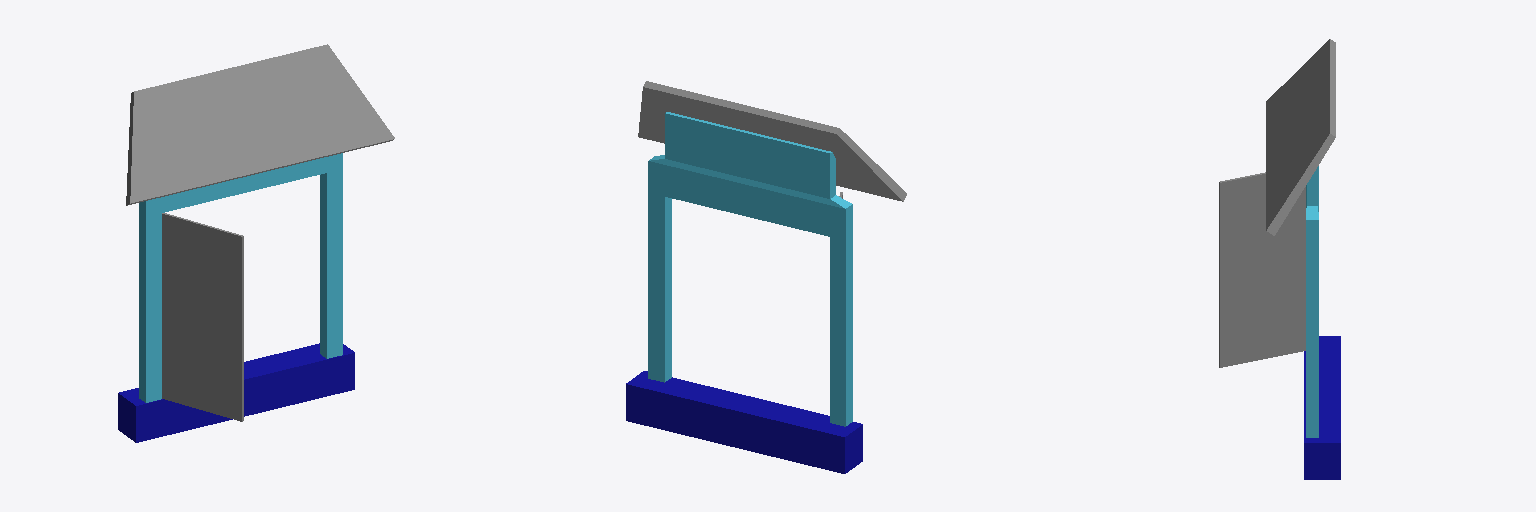
File: menkou3.obj
3 renders of one model, left to right at view 1: azimuth 30°, elevation 25°; view 2: azimuth 150°, elevation 25°; view 3: azimuth 270°, elevation 25°, orthographic.
Parts seen in each view (by area): view 1: Box001, Box004, Box002, Box003; view 2: Box002, Box003, Box001; view 3: Box004, Box001, Box003, Box002.
Boxes of the visible parts, box(x1,y1,x2,y2) form: Box001: box(126, 44, 394, 205); Box004: box(162, 213, 243, 421); Box002: box(139, 153, 342, 402); Box003: box(118, 343, 354, 442); Box002: box(648, 112, 852, 426); Box003: box(626, 371, 862, 473); Box001: box(638, 81, 906, 201); Box004: box(1219, 172, 1305, 367); Box001: box(1266, 39, 1335, 235); Box003: box(1304, 336, 1340, 479); Box002: box(1306, 166, 1318, 437).
Size of the model in its own units: 53.68 by 65.67 by 21.42.